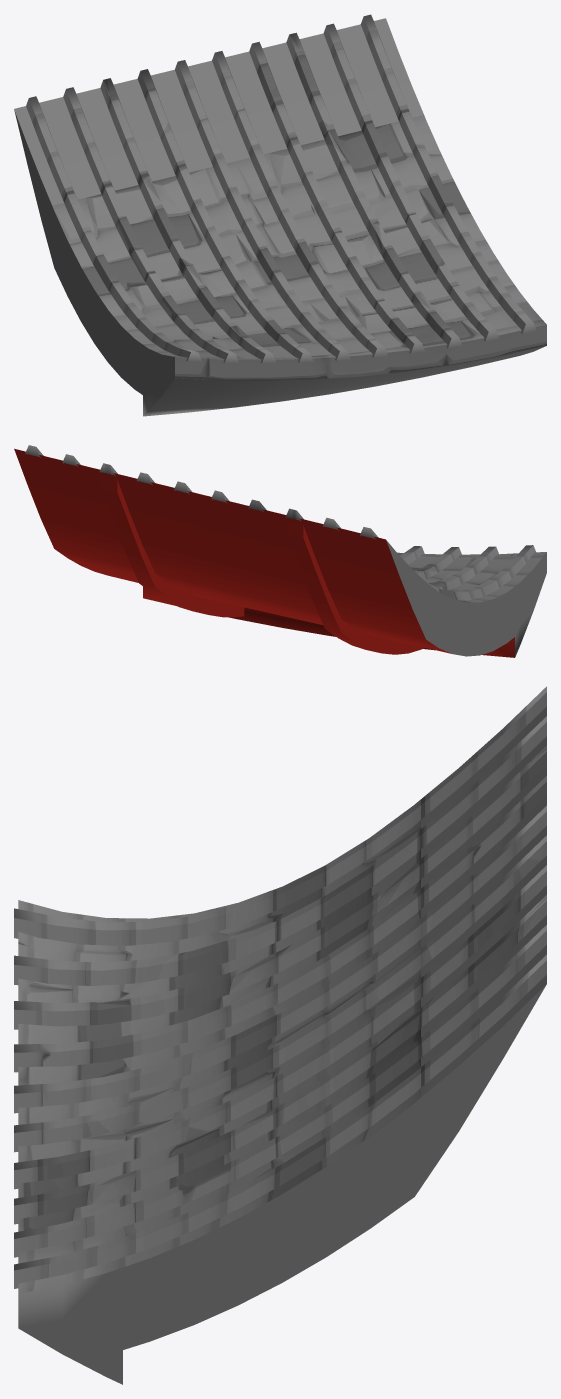
File: SM_Bld_Kawara_S_Tip_Far_01.fbx
The picture shows the model from 3 angles, top to bottom: view 1: azimuth 30°, elevation 25°; view 2: azimuth 150°, elevation 25°; view 3: azimuth 270°, elevation 25°; orthographic projection. The views are drawn at different scales.
Parts seen in each view (by area): view 1: SM_Bld_Kawara_S_Tip_Far_01; view 2: SM_Bld_Kawara_S_Tip_Far_01; view 3: SM_Bld_Kawara_S_Tip_Far_01.
Boxes of the visible parts, left/top/right/bottom form: SM_Bld_Kawara_S_Tip_Far_01: left=14, top=14, right=546, bottom=416; SM_Bld_Kawara_S_Tip_Far_01: left=14, top=445, right=546, bottom=657; SM_Bld_Kawara_S_Tip_Far_01: left=14, top=686, right=546, bottom=1384.
Size of the model in its own units: 5 by 3.23 by 3.78.
